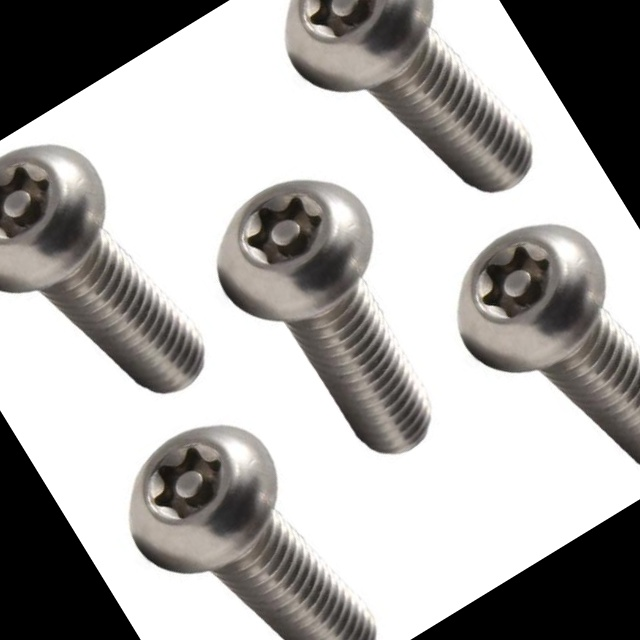torx: (423, 195, 637, 400), (96, 396, 307, 597), (188, 148, 398, 348), (0, 117, 135, 316), (254, 0, 463, 113)
